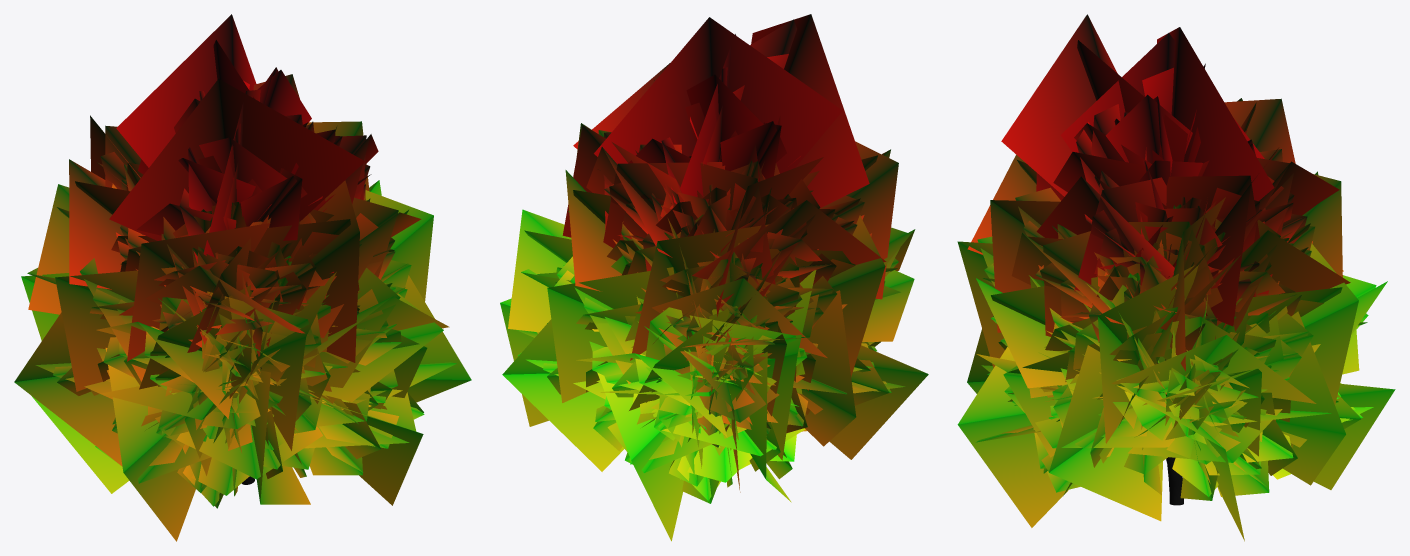
File: linden_tree_0.FBX
3 renders of one model, left to right at view 1: azimuth 30°, elevation 25°; view 2: azimuth 150°, elevation 25°; view 3: azimuth 270°, elevation 25°, orthographic. The views are drawn at different scales.
Parts seen in each view (by area): view 1: linden_leaves_shadow, linden_leaves_lod_0; view 2: linden_leaves_shadow, linden_leaves_lod_0; view 3: linden_leaves_shadow, linden_leaves_lod_0, linden_trunk_lod_0.
Boxes of the visible parts, box(x1,y1,x2,y2) form: linden_leaves_shadow: box(14, 14, 471, 541); linden_leaves_lod_0: box(53, 67, 424, 508); linden_leaves_shadow: box(500, 14, 928, 541); linden_leaves_lod_0: box(536, 54, 898, 503); linden_leaves_shadow: box(957, 14, 1395, 541); linden_leaves_lod_0: box(983, 63, 1368, 500); linden_trunk_lod_0: box(1157, 359, 1183, 505).
Size of what is drawn, in the model's own units: 20.91 by 25.31 by 20.88.
